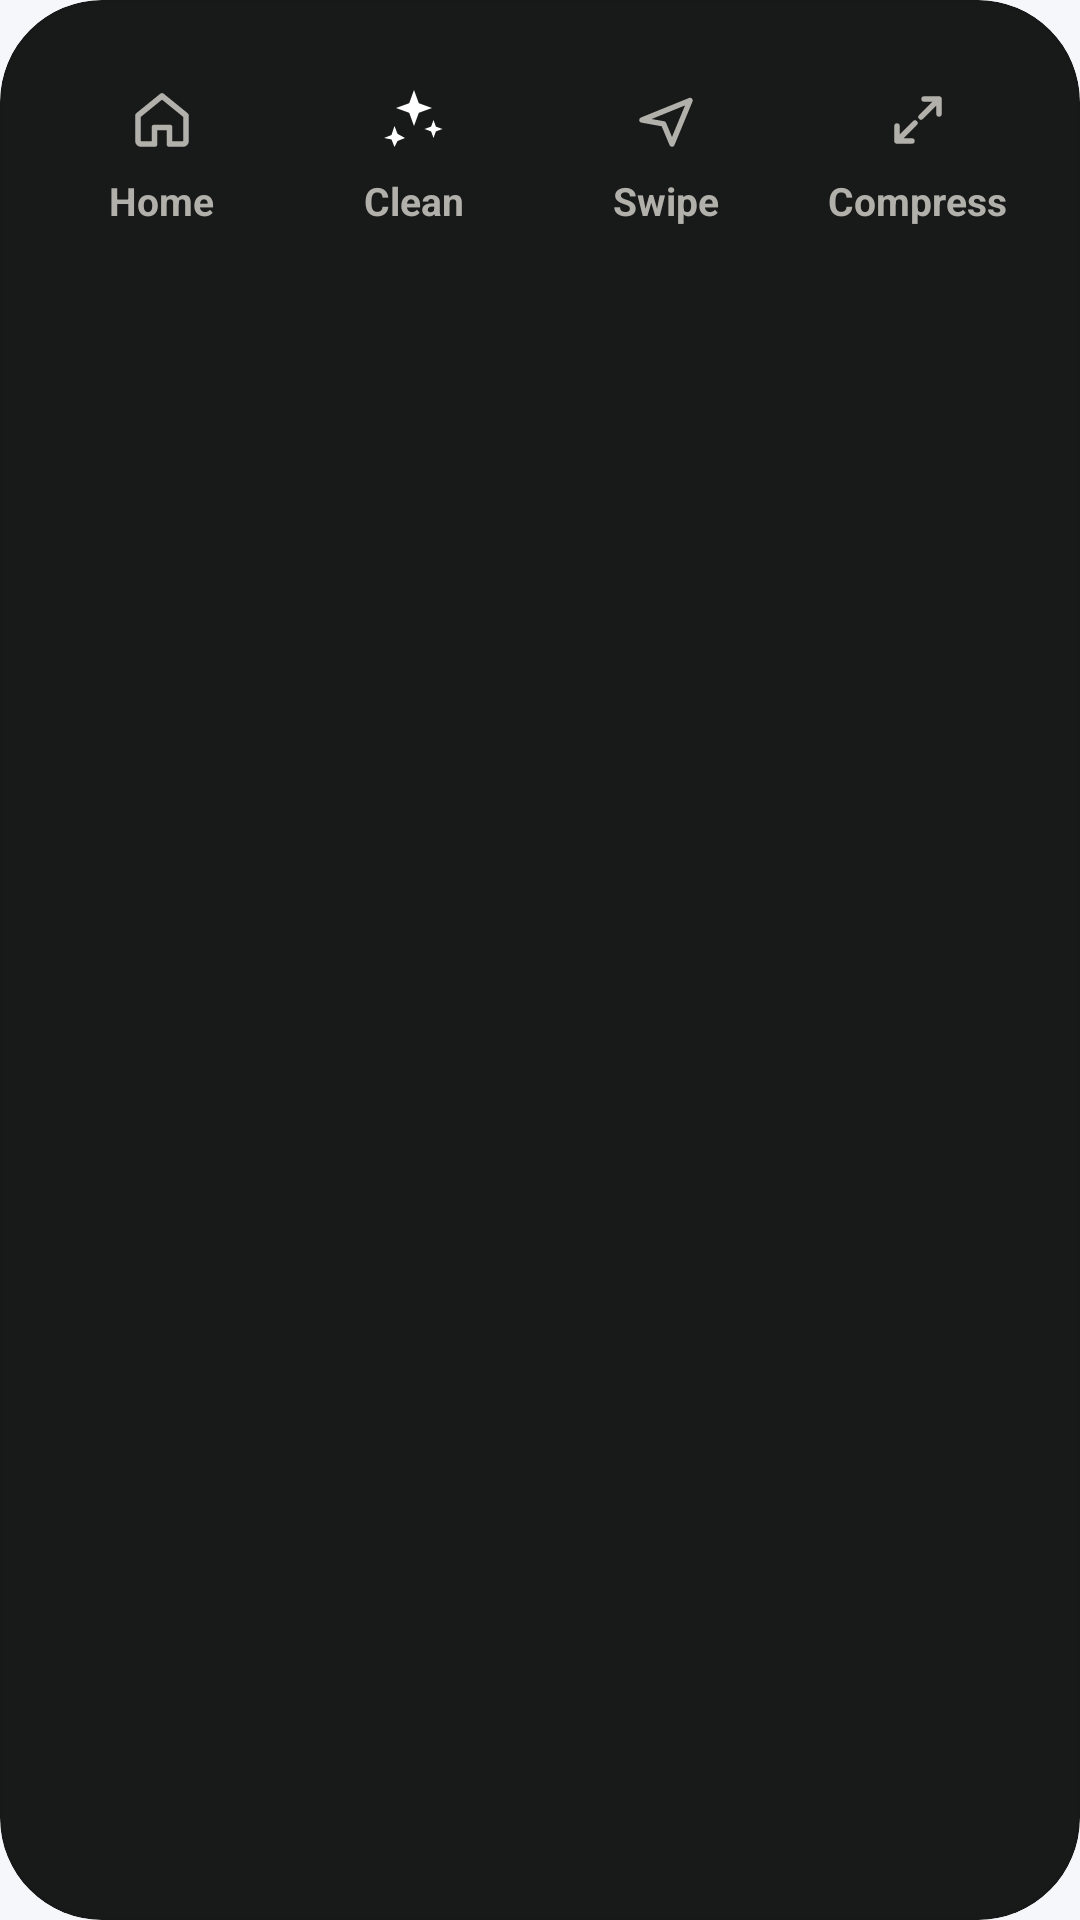

Icon bounding boxes for this 1080 × 1920 phone screenshot, format [x1, y1, x2, y2]:
sparkle: [384, 90, 442, 147]
